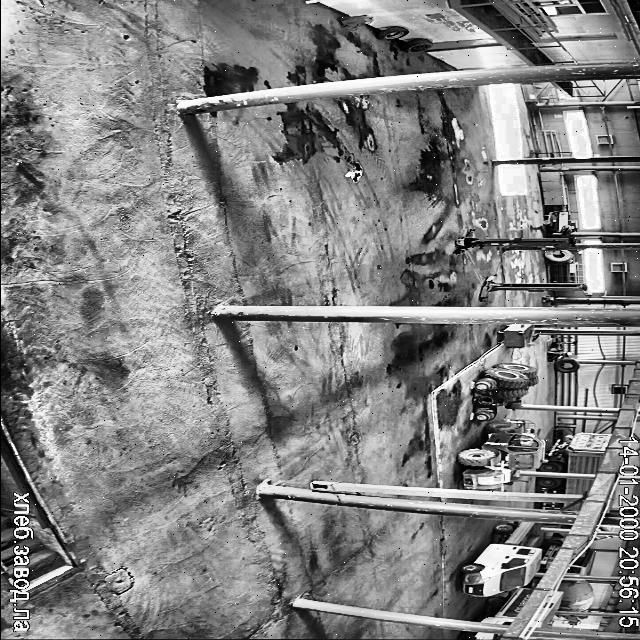class6: (458, 420, 544, 489), (475, 363, 538, 420)
class7: (460, 522, 540, 596), (540, 432, 612, 472), (483, 588, 532, 624), (558, 580, 594, 610), (538, 477, 591, 494), (538, 592, 562, 628), (540, 538, 563, 572), (567, 549, 595, 575), (464, 632, 500, 640), (543, 499, 563, 508), (567, 504, 580, 510), (569, 616, 579, 620)
tractor: (340, 15, 372, 24)
truck: (479, 275, 588, 300), (455, 229, 573, 252)
